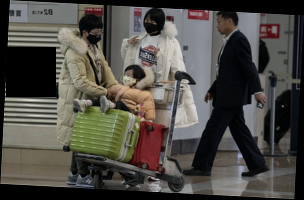with_mask: (86, 28, 103, 45), (142, 18, 158, 34), (121, 71, 136, 87)
without_mask: (214, 17, 228, 36)
